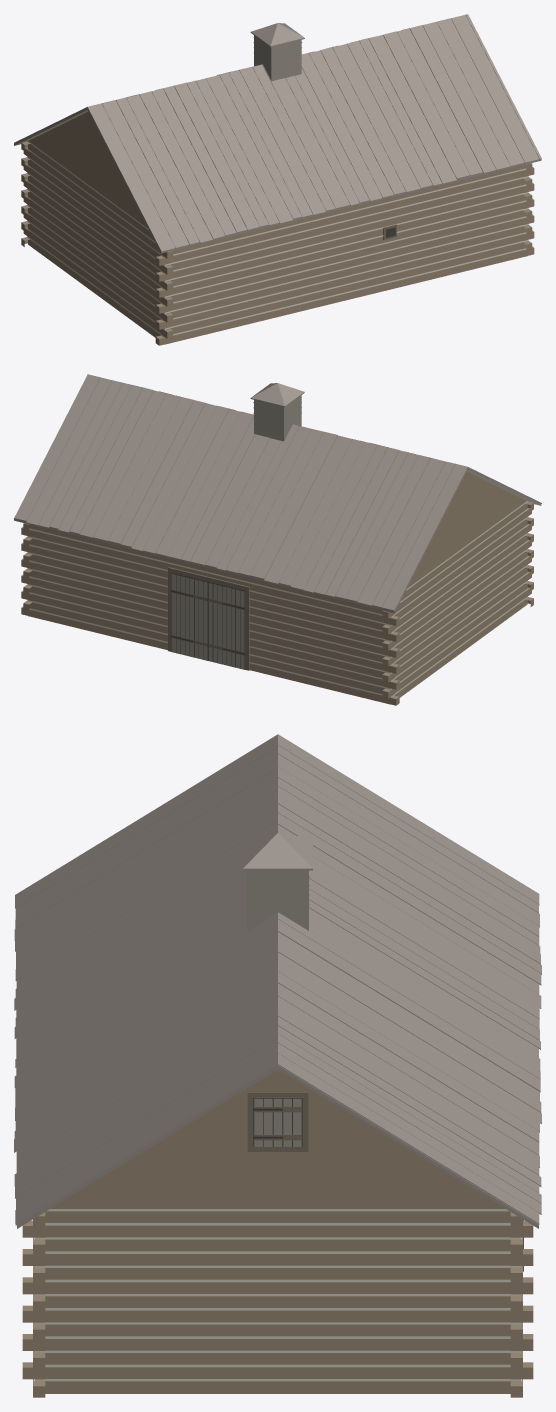
The model's file is fort_dearborn_big_barn__barn_1830.glb.
The picture shows the model from 3 angles, top to bottom: view 1: azimuth 30°, elevation 25°; view 2: azimuth 150°, elevation 25°; view 3: azimuth 270°, elevation 25°; orthographic projection. The views are drawn at different scales.
Parts seen in each view (by area): view 1: fort_dearborn_big_barn__barn_1830; view 2: fort_dearborn_big_barn__barn_1830; view 3: fort_dearborn_big_barn__barn_1830.
Boxes of the visible parts, x1,y1,x2,y2 form: fort_dearborn_big_barn__barn_1830: (14,14,541,345); fort_dearborn_big_barn__barn_1830: (14,374,541,705); fort_dearborn_big_barn__barn_1830: (14,734,541,1397).
Size of the model in its own units: 15.1 by 8.62 by 10.21.
